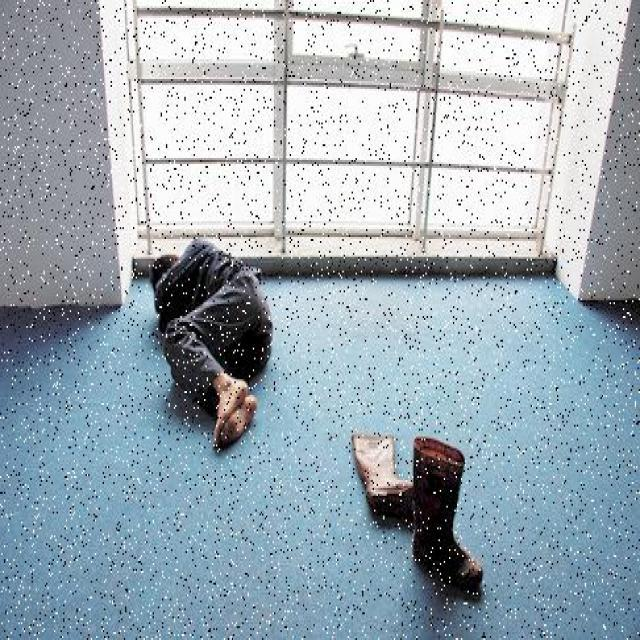fall: (144, 245, 272, 450)
